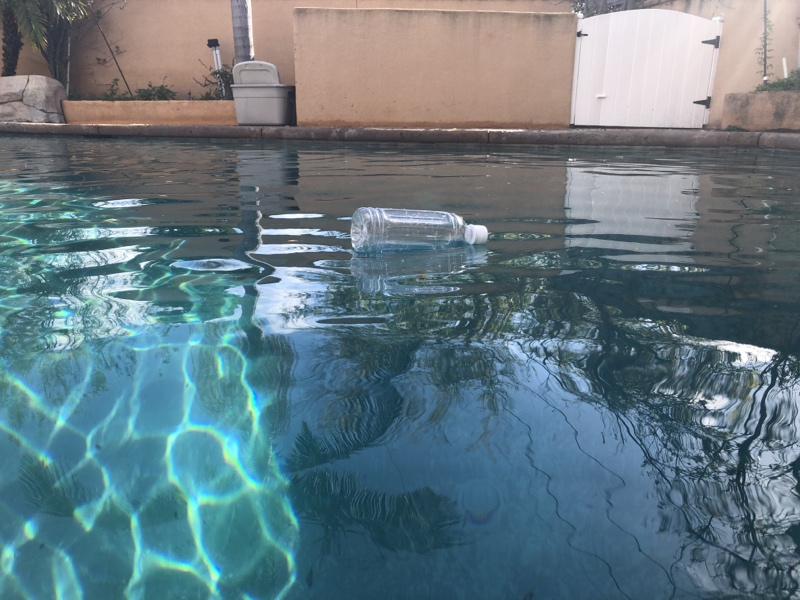Plastic Bottle: (347, 203, 493, 256)
